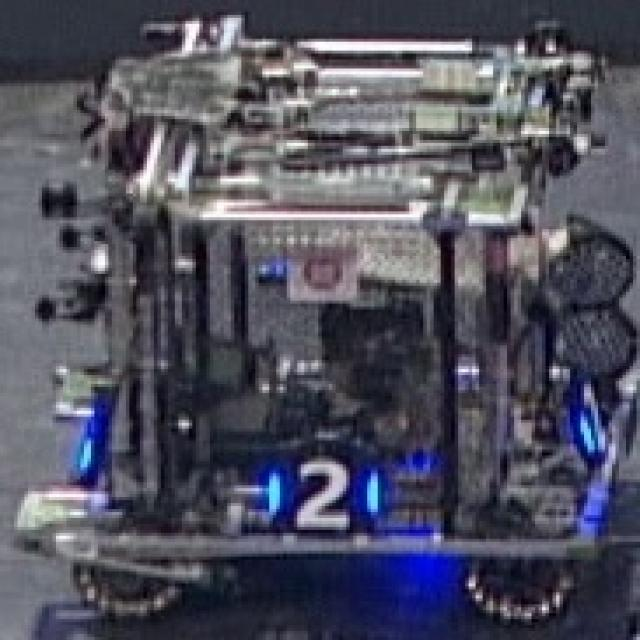B2: (266, 458, 378, 530), (570, 378, 623, 458)
